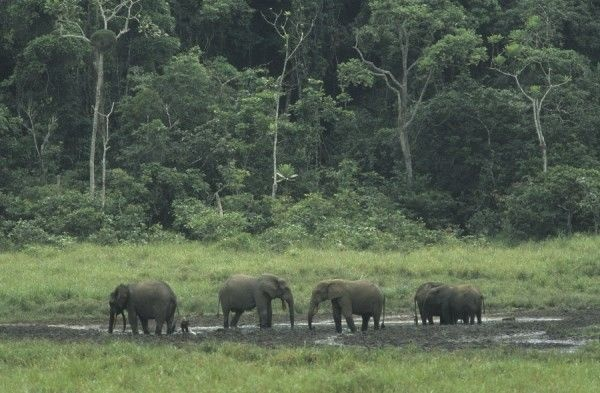elephant: (213, 271, 299, 340), (304, 275, 388, 340), (105, 279, 182, 343), (420, 284, 488, 327)
